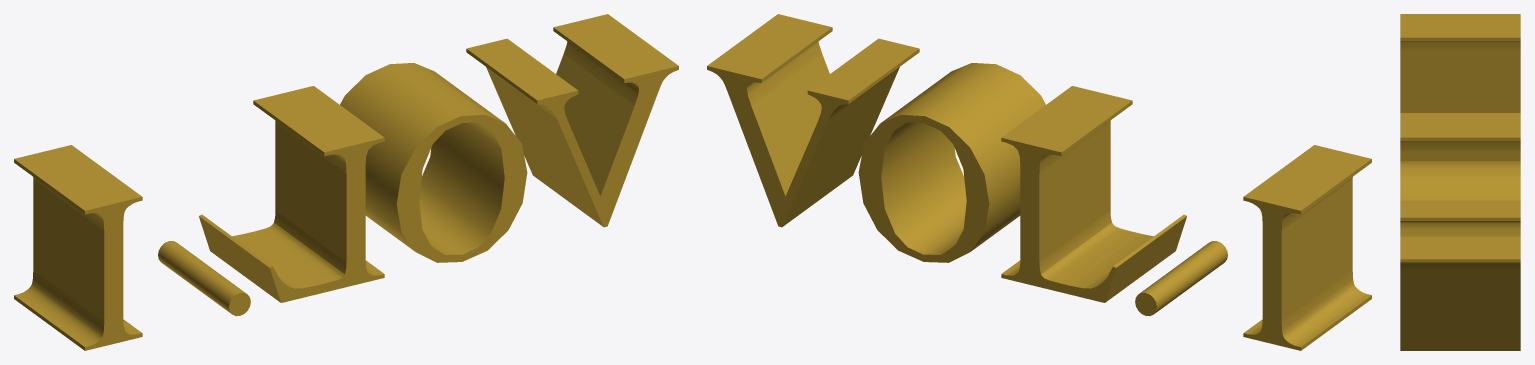
Rendered from inscription_vol1.FBX.
3 views of the same model, side by side, from view 1: azimuth 30°, elevation 25°; view 2: azimuth 150°, elevation 25°; view 3: azimuth 270°, elevation 25° (orthographic). The views are drawn at different scales.
Parts seen in each view (by area): view 1: Text008; view 2: Text008; view 3: Text008.
Part boxes in pixels (<box>): Text008: <box>14,14,678,350</box>; Text008: <box>707,14,1371,350</box>; Text008: <box>1400,14,1520,350</box>.
Bounding box in the file's own units: 4.83 × 1.14 × 1.
